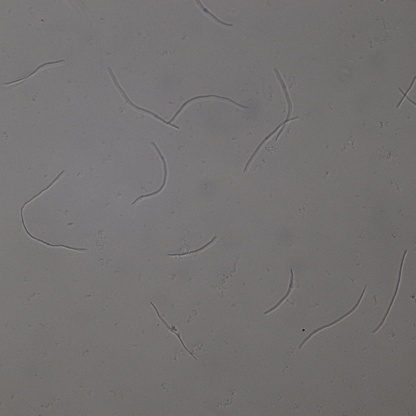Sensitive: (20, 170, 87, 256), (108, 71, 179, 129), (302, 285, 368, 346), (245, 117, 298, 170), (151, 301, 197, 360), (374, 250, 406, 332), (169, 91, 249, 123), (130, 141, 168, 207), (5, 60, 63, 89), (274, 68, 296, 143), (264, 269, 294, 314), (168, 235, 217, 260), (195, 1, 233, 29), (396, 76, 416, 111)
